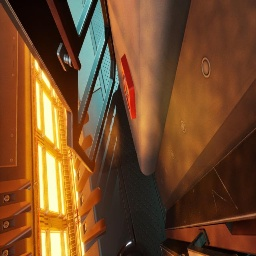FireAlarm ,: (120, 53, 136, 119)
